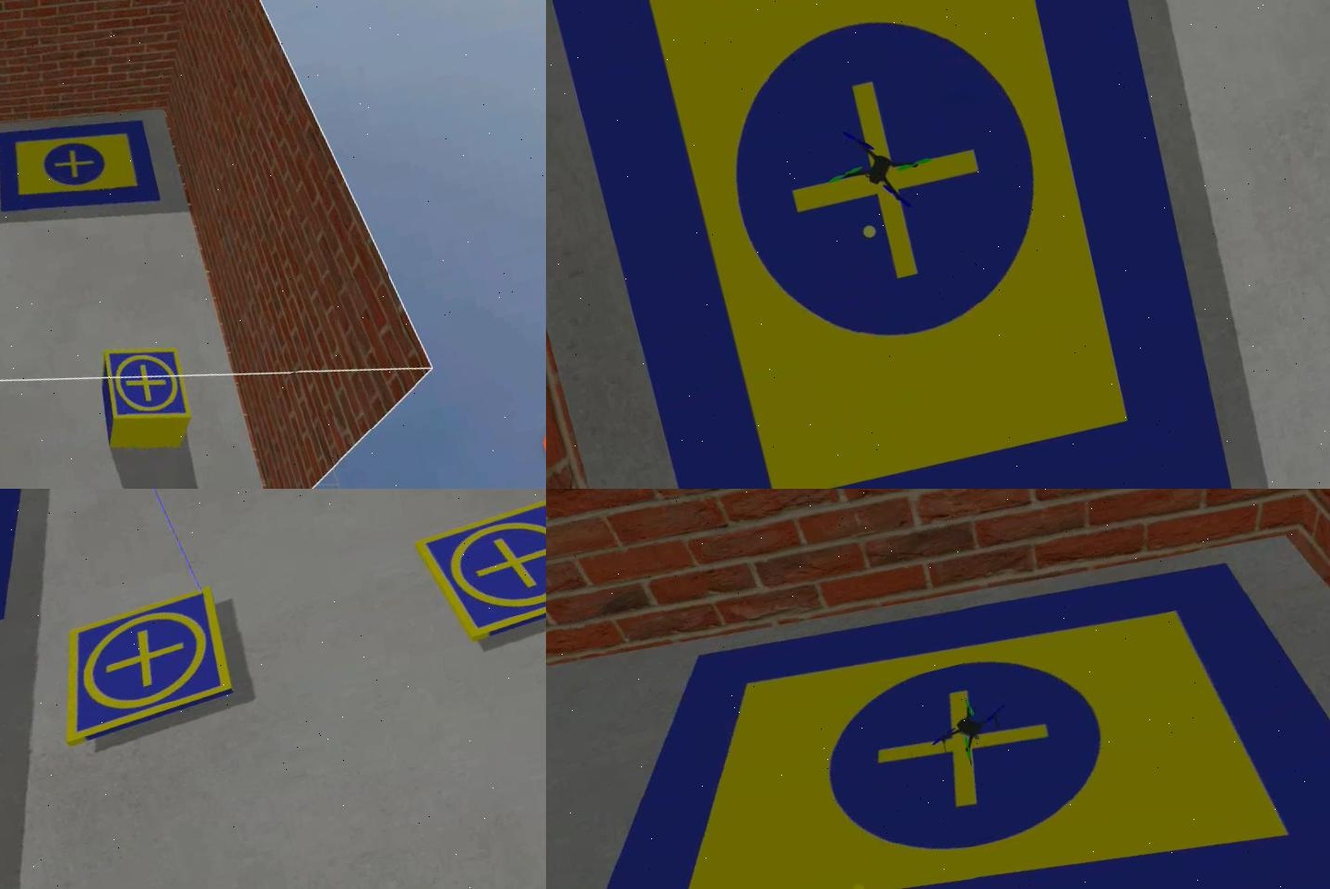large_base: (545, 1, 1257, 490), (545, 490, 1328, 889), (0, 99, 160, 238)
small_base: (34, 583, 243, 753), (409, 490, 545, 656), (92, 339, 191, 439)
